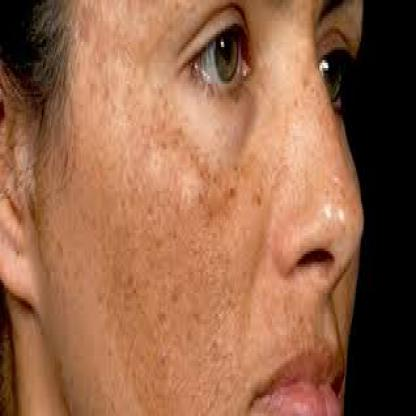darkspot: (127, 105, 275, 264), (70, 3, 113, 107), (295, 78, 332, 186)
wrinkle: (195, 293, 246, 400)
